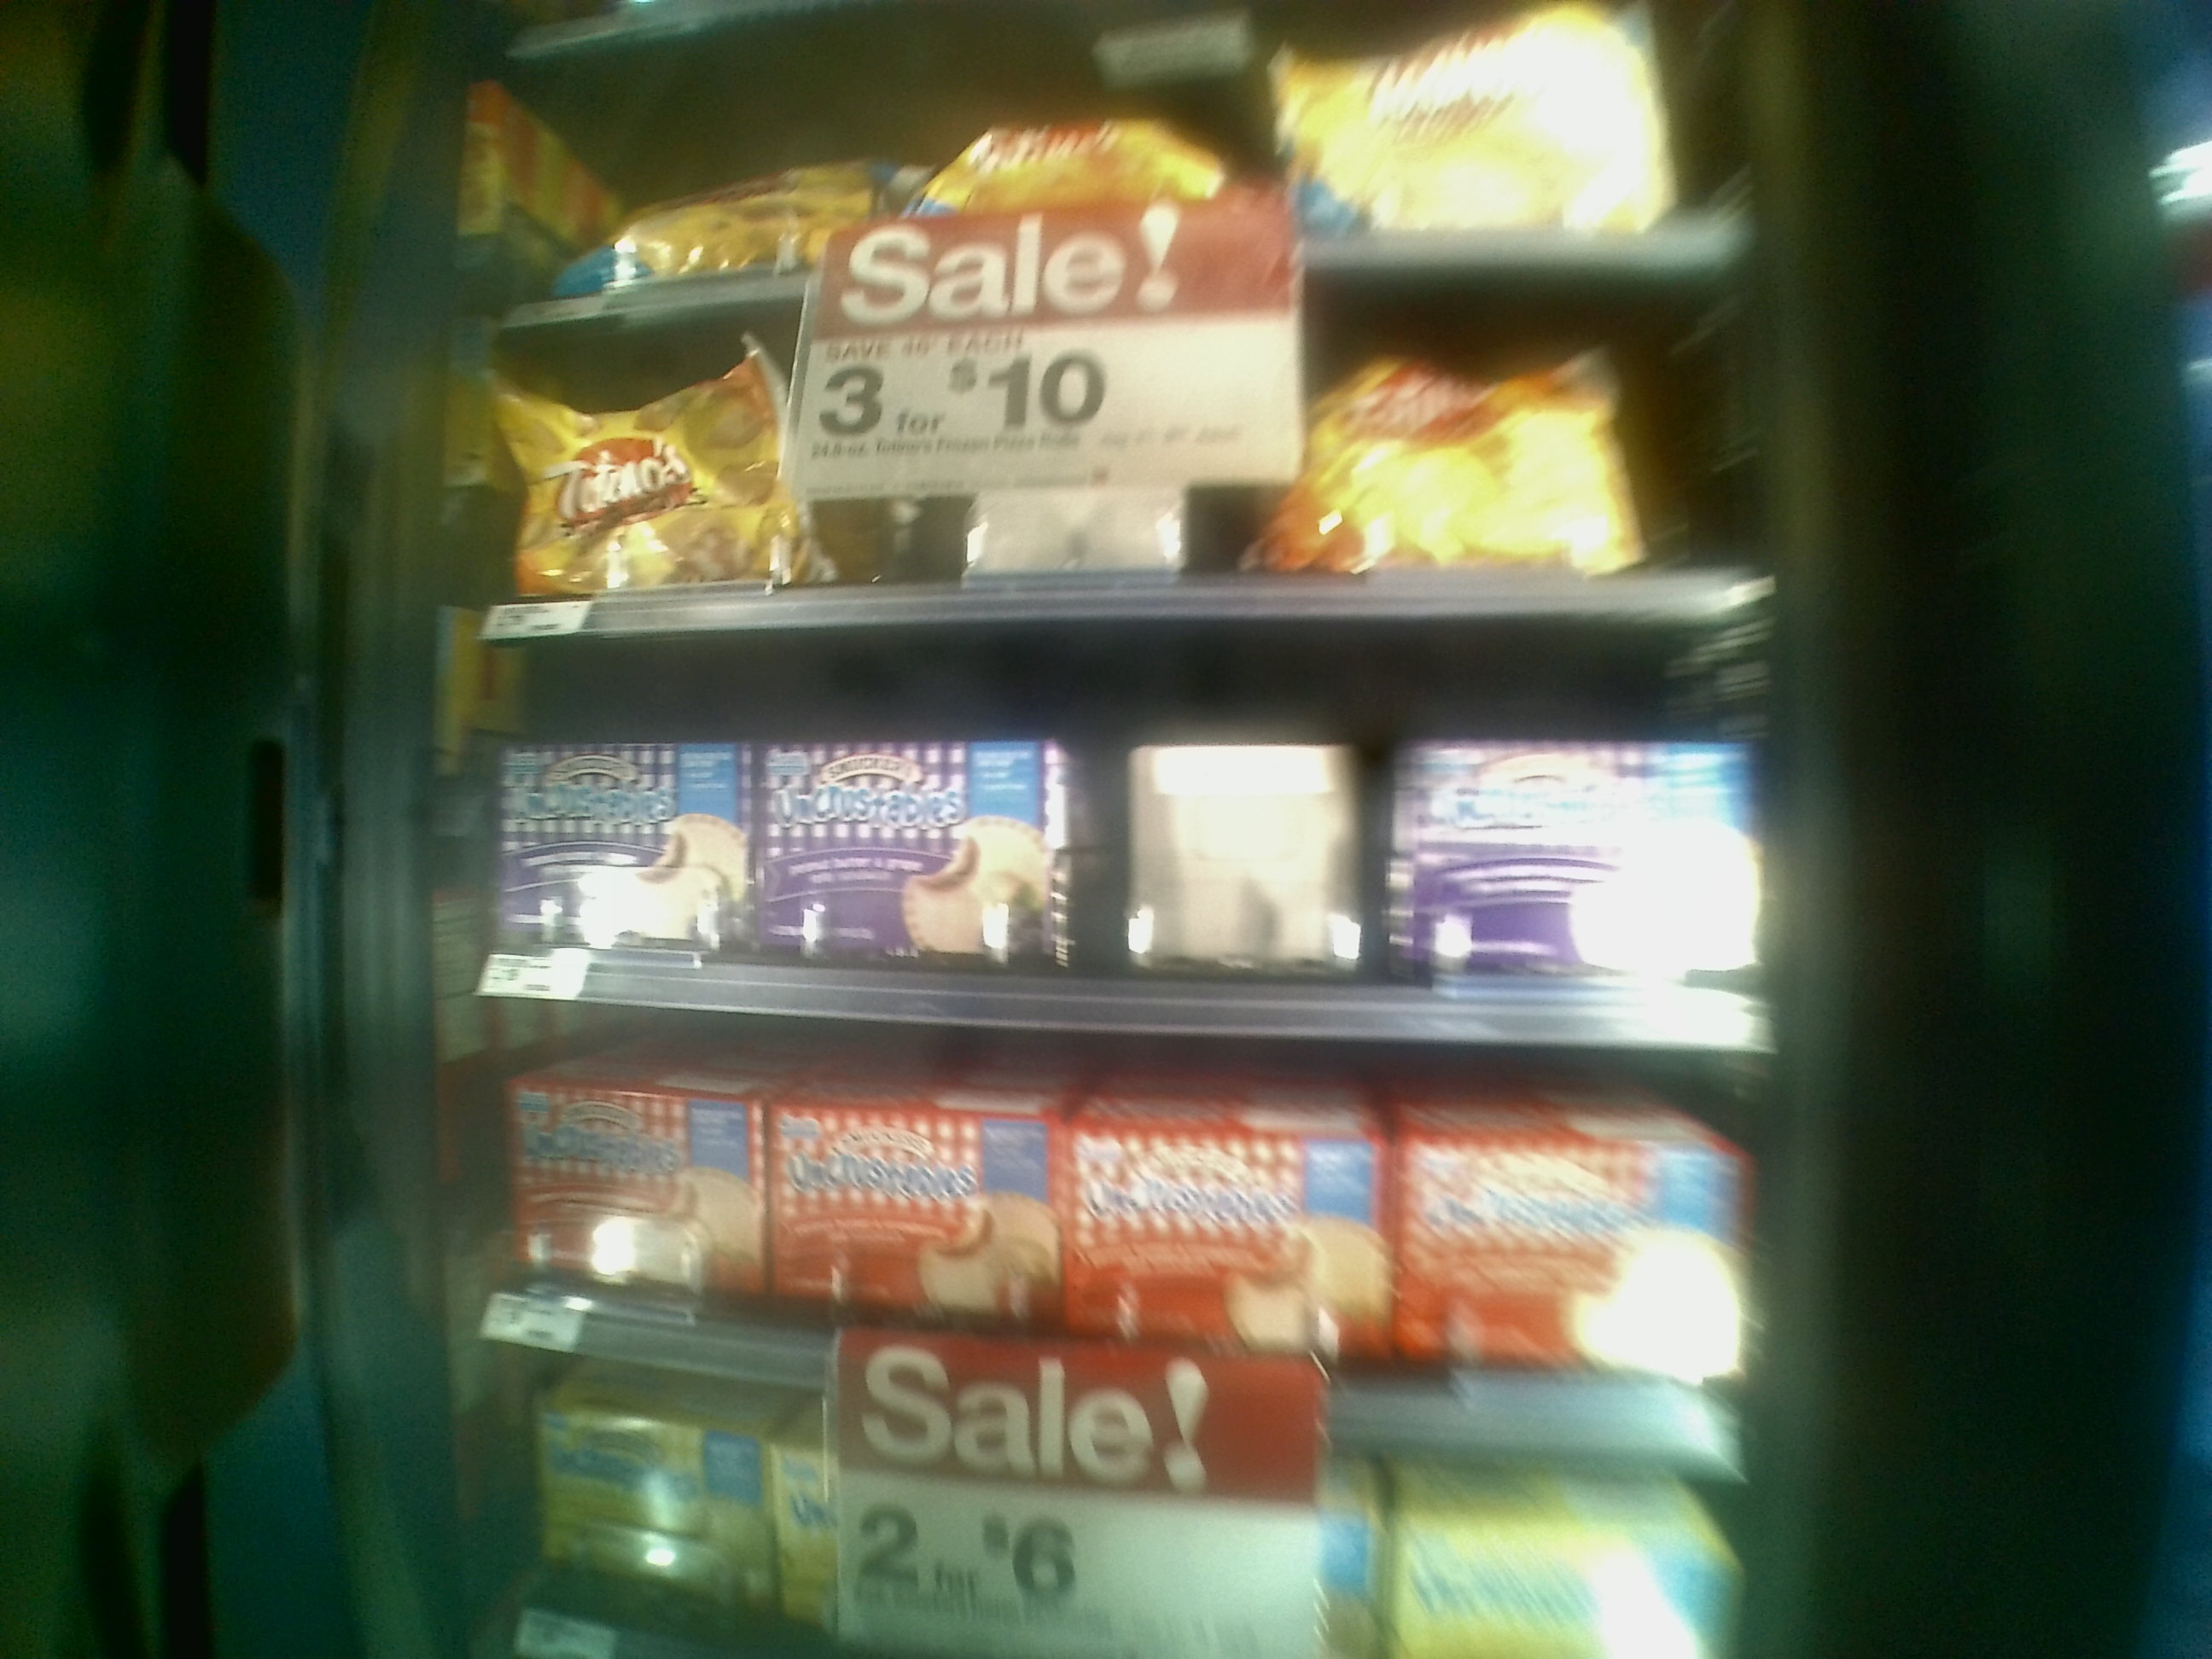shelf: (460, 983, 1747, 1427), (474, 610, 1778, 1042), (460, 295, 1785, 605)
